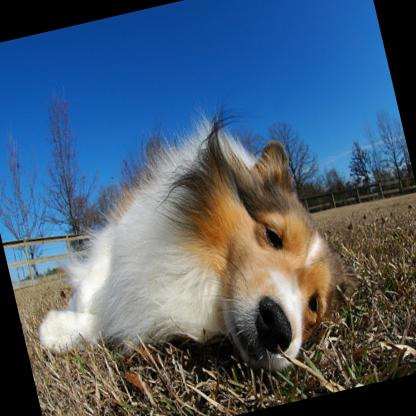Shetland_sheepdog: (0, 66, 376, 416)
